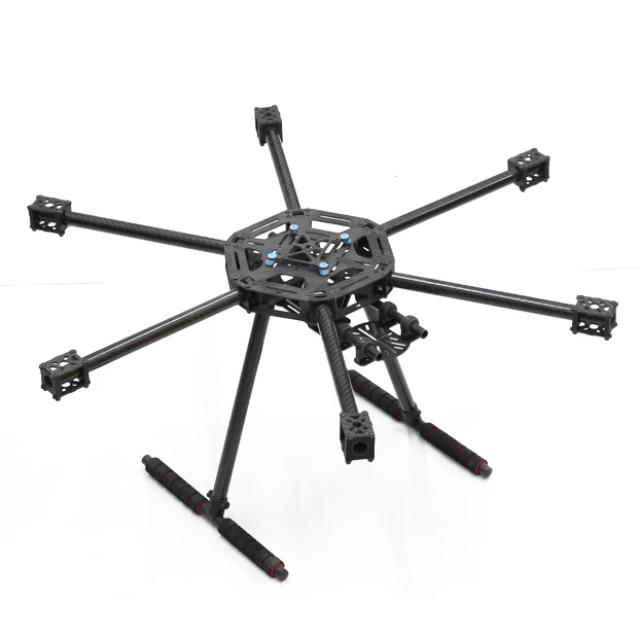drone: (2, 96, 640, 577)
